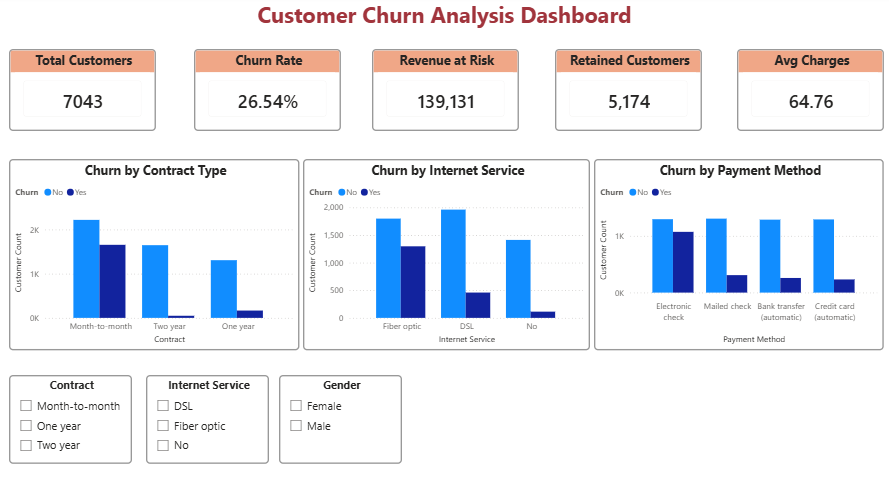

Layout of this report page (visuals, bound fields, positions):
{"tool":"powerbi","page":{"name":"Churn Overview","canvas":[1305,720],"ordinal":0},"visuals":[{"type":"cardVisual","title":"Total Customers","fields":{"Data":["WA_Fn-UseC_-Telco-Customer-Churn.Total Customers"]},"box":[14.6,77.6,215,120],"z":0},{"type":"cardVisual","title":"Churn Rate","fields":{"Data":["WA_Fn-UseC_-Telco-Customer-Churn.Churn Rate"]},"box":[285.4,77.6,215.1,120],"z":1000},{"type":"cardVisual","title":"Revenue at Risk","fields":{"Data":["WA_Fn-UseC_-Telco-Customer-Churn.Revenue at Risk"]},"box":[545.9,77.6,215.1,120],"z":2000},{"type":"cardVisual","title":"Retained Customers","fields":{"Data":["WA_Fn-UseC_-Telco-Customer-Churn.Retained Customers"]},"box":[813.7,77.6,215.1,120],"z":3000},{"type":"cardVisual","title":"Avg Charges","fields":{"Data":["WA_Fn-UseC_-Telco-Customer-Churn.Avg Monthly Charges"]},"box":[1080,77.6,215.1,120],"z":4000},{"type":"clusteredColumnChart","title":"Churn by Contract Type","fields":{"Category":["WA_Fn-UseC_-Telco-Customer-Churn.Contract"],"Y":["CountNonNull(WA_Fn-UseC_-Telco-Customer-Churn.customerID)"],"Series":["WA_Fn-UseC_-Telco-Customer-Churn.Churn"]},"box":[14.6,238.5,425,279.5],"z":5000},{"type":"clusteredColumnChart","title":"Churn by Internet Service","fields":{"Category":["WA_Fn-UseC_-Telco-Customer-Churn.InternetService"],"Y":["CountNonNull(WA_Fn-UseC_-Telco-Customer-Churn.customerID)"],"Series":["WA_Fn-UseC_-Telco-Customer-Churn.Churn"]},"box":[444.9,238.5,420,279.5],"z":6000},{"type":"clusteredColumnChart","title":"Churn by Payment Method","fields":{"Series":["WA_Fn-UseC_-Telco-Customer-Churn.Churn"],"Category":["WA_Fn-UseC_-Telco-Customer-Churn.PaymentMethod"],"Y":["CountNonNull(WA_Fn-UseC_-Telco-Customer-Churn.customerID)"]},"box":[870.7,238.5,424.4,279.5],"z":7000},{"type":"slicer","title":"Contract","fields":{"Values":["WA_Fn-UseC_-Telco-Customer-Churn.Contract"]},"box":[14.6,554.6,180,130.2],"z":8000},{"type":"slicer","title":"Internet Service","fields":{"Values":["WA_Fn-UseC_-Telco-Customer-Churn.InternetService"]},"box":[215.1,554.6,180,130.2],"z":9000},{"type":"slicer","title":"Gender","fields":{"Values":["WA_Fn-UseC_-Telco-Customer-Churn.gender"]},"box":[409.8,554.6,180,130.2],"z":10000},{"type":"textbox","box":[318.1,0,668.8,55],"z":11000}]}

Visuals, with their boxes in screenshot pixels (x1, y1, x2, y2), scaled from the page's 1305x720 canvas onto the 889x483 screenshot:
"Total Customers" cardVisual: (10,52,156,133)
"Churn Rate" cardVisual: (194,52,341,133)
"Revenue at Risk" cardVisual: (372,52,518,133)
"Retained Customers" cardVisual: (554,52,701,133)
"Avg Charges" cardVisual: (736,52,882,133)
"Churn by Contract Type" clusteredColumnChart: (10,160,299,347)
"Churn by Internet Service" clusteredColumnChart: (303,160,589,347)
"Churn by Payment Method" clusteredColumnChart: (593,160,882,347)
"Contract" slicer: (10,372,133,459)
"Internet Service" slicer: (147,372,269,459)
"Gender" slicer: (279,372,402,459)
textbox: (217,0,672,37)
